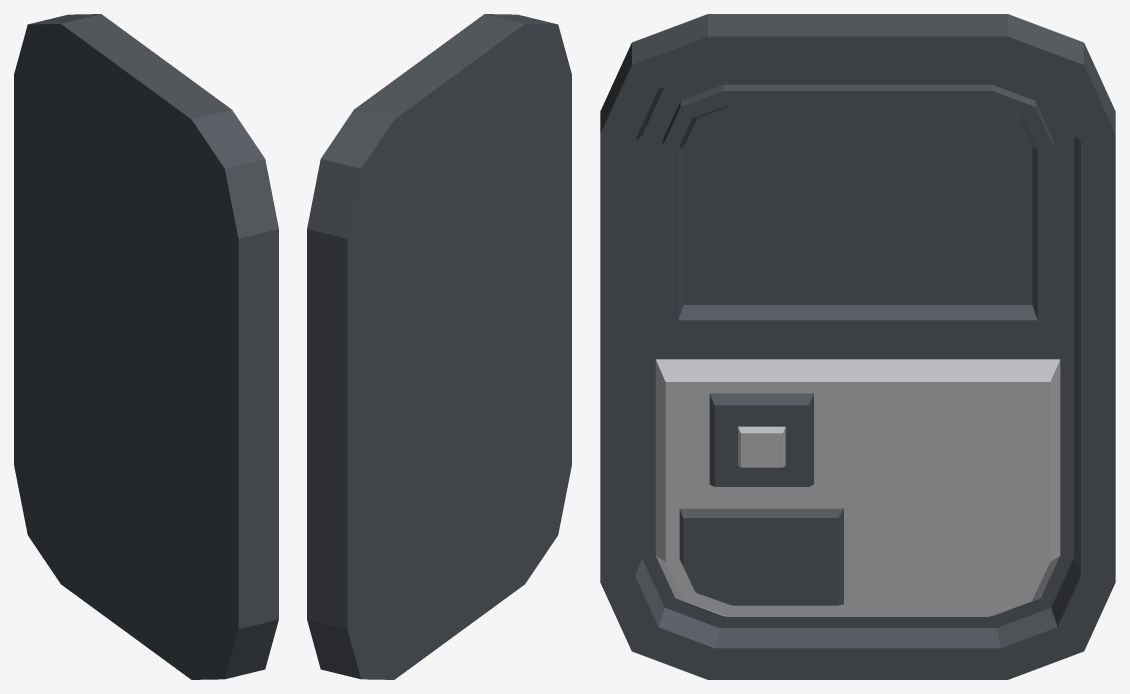
The model's file is Fighter_04_Detail_2.fbx.
3 views of the same model, side by side, from view 1: azimuth 30°, elevation 25°; view 2: azimuth 150°, elevation 25°; view 3: azimuth 270°, elevation 25° (orthographic). The views are drawn at different scales.
Parts seen in each view (by area): view 1: Fighter_04_Detail_2; view 2: Fighter_04_Detail_2; view 3: Fighter_04_Detail_2.
Boxes of the visible parts, x1=… form: Fighter_04_Detail_2: x1=14, y1=14, x2=278, y2=679; Fighter_04_Detail_2: x1=307, y1=14, x2=571, y2=679; Fighter_04_Detail_2: x1=600, y1=14, x2=1115, y2=679.
Size of the model in its own units: 18.34 by 159 by 115.
Materials: 2 (2 with a texture image).
